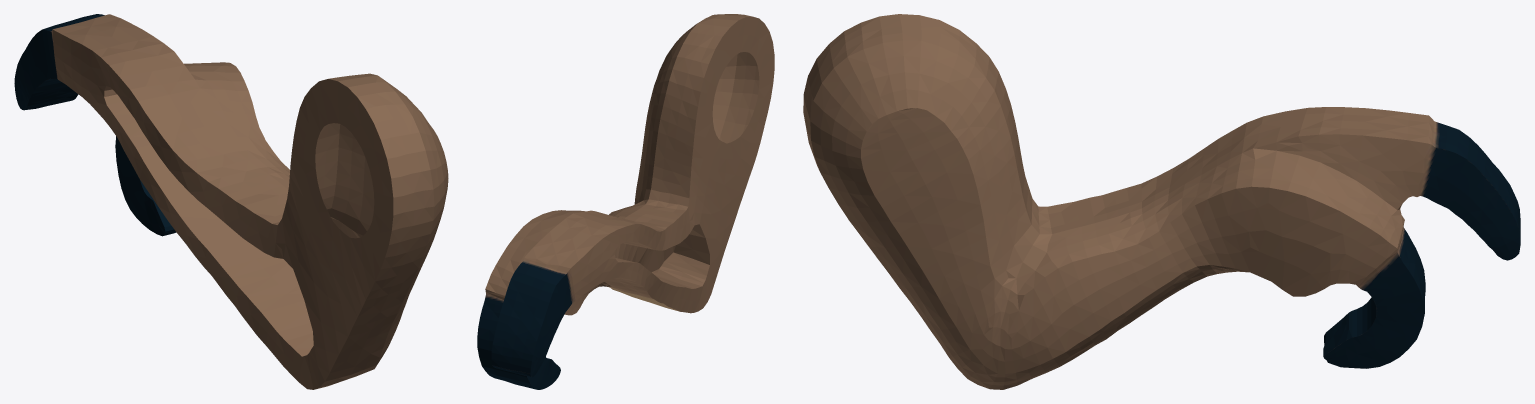
File: BrazoDerecho.obj
3 renders of one model, left to right at view 1: azimuth 30°, elevation 25°; view 2: azimuth 150°, elevation 25°; view 3: azimuth 270°, elevation 25°, orthographic. The views are drawn at different scales.
Visible parts, largest first — view 1: BrazoDerecho_polySurface83; view 2: BrazoDerecho_polySurface83; view 3: BrazoDerecho_polySurface83.
Part boxes in pixels (x1,y1,x2,y2): BrazoDerecho_polySurface83: (14, 14, 448, 389); BrazoDerecho_polySurface83: (477, 14, 774, 389); BrazoDerecho_polySurface83: (803, 14, 1520, 389).
Bounding box in the file's own units: 0.3648 × 0.8561 × 1.6.
